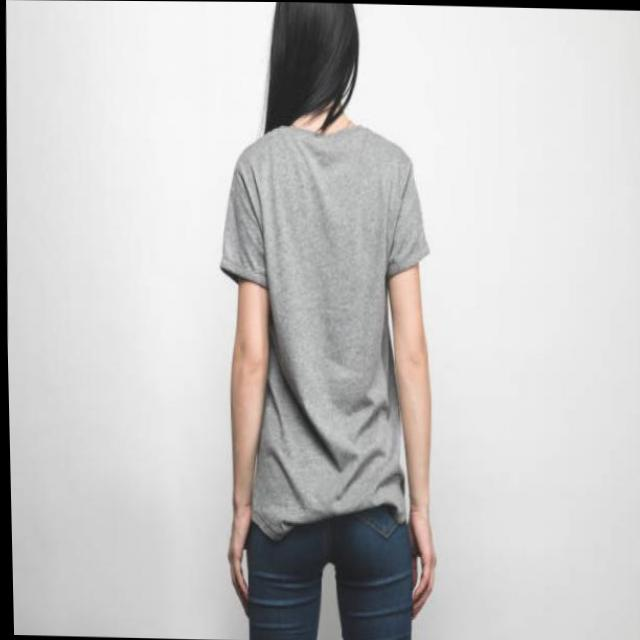no helmet: (240, 1, 388, 176)
